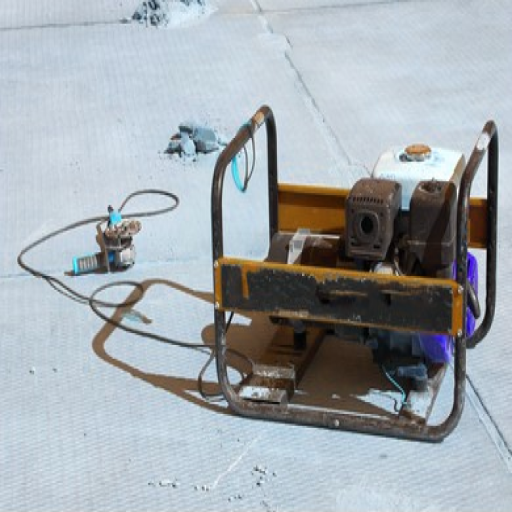portable_generator: (210, 105, 499, 443)
